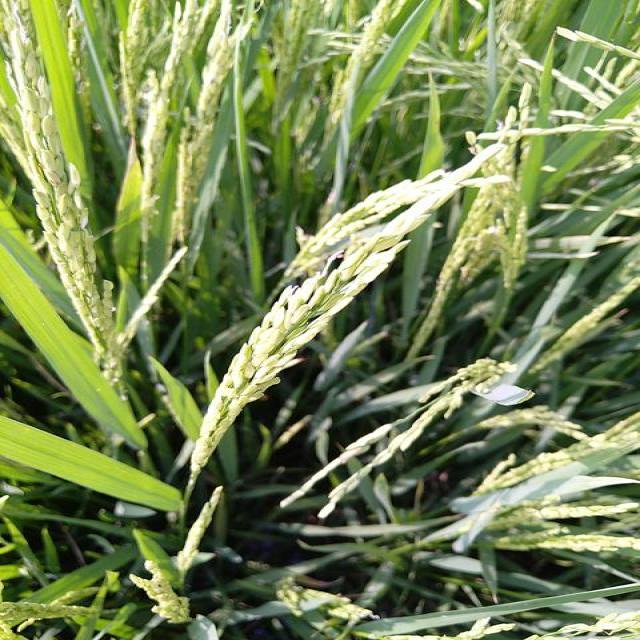Panicle Blight: (287, 305, 312, 326), (44, 168, 63, 189)
